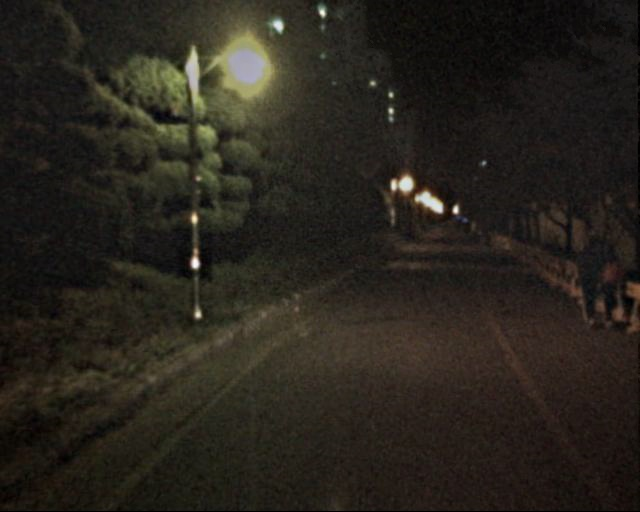person: (573, 236, 611, 329), (591, 238, 627, 325)
